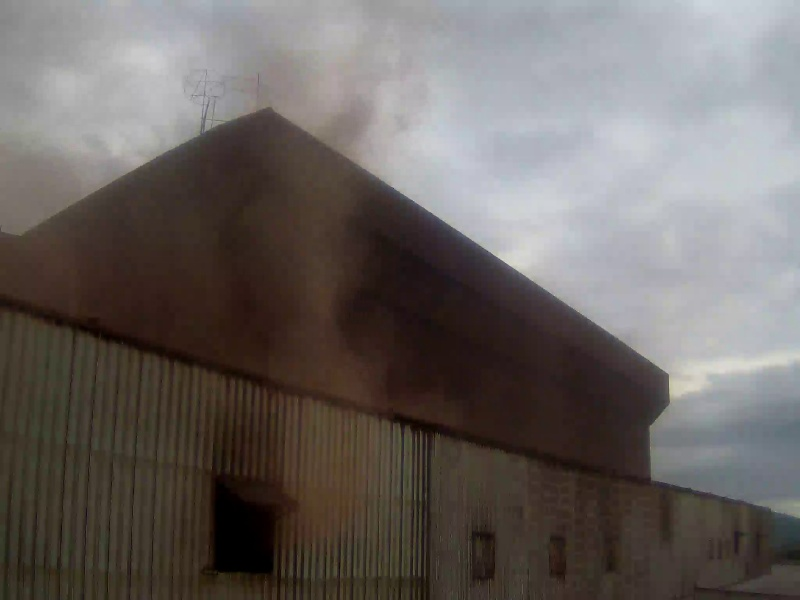bom: (645, 308, 800, 497)
pessimo: (3, 7, 400, 399)
